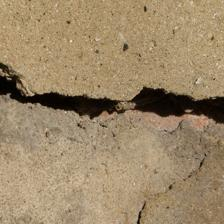Crack: (79, 49, 146, 161), (182, 38, 224, 106)
